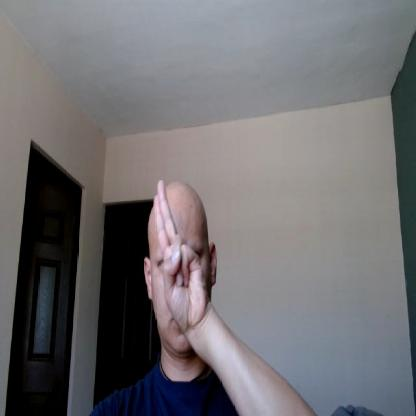U: (154, 178, 205, 329)
